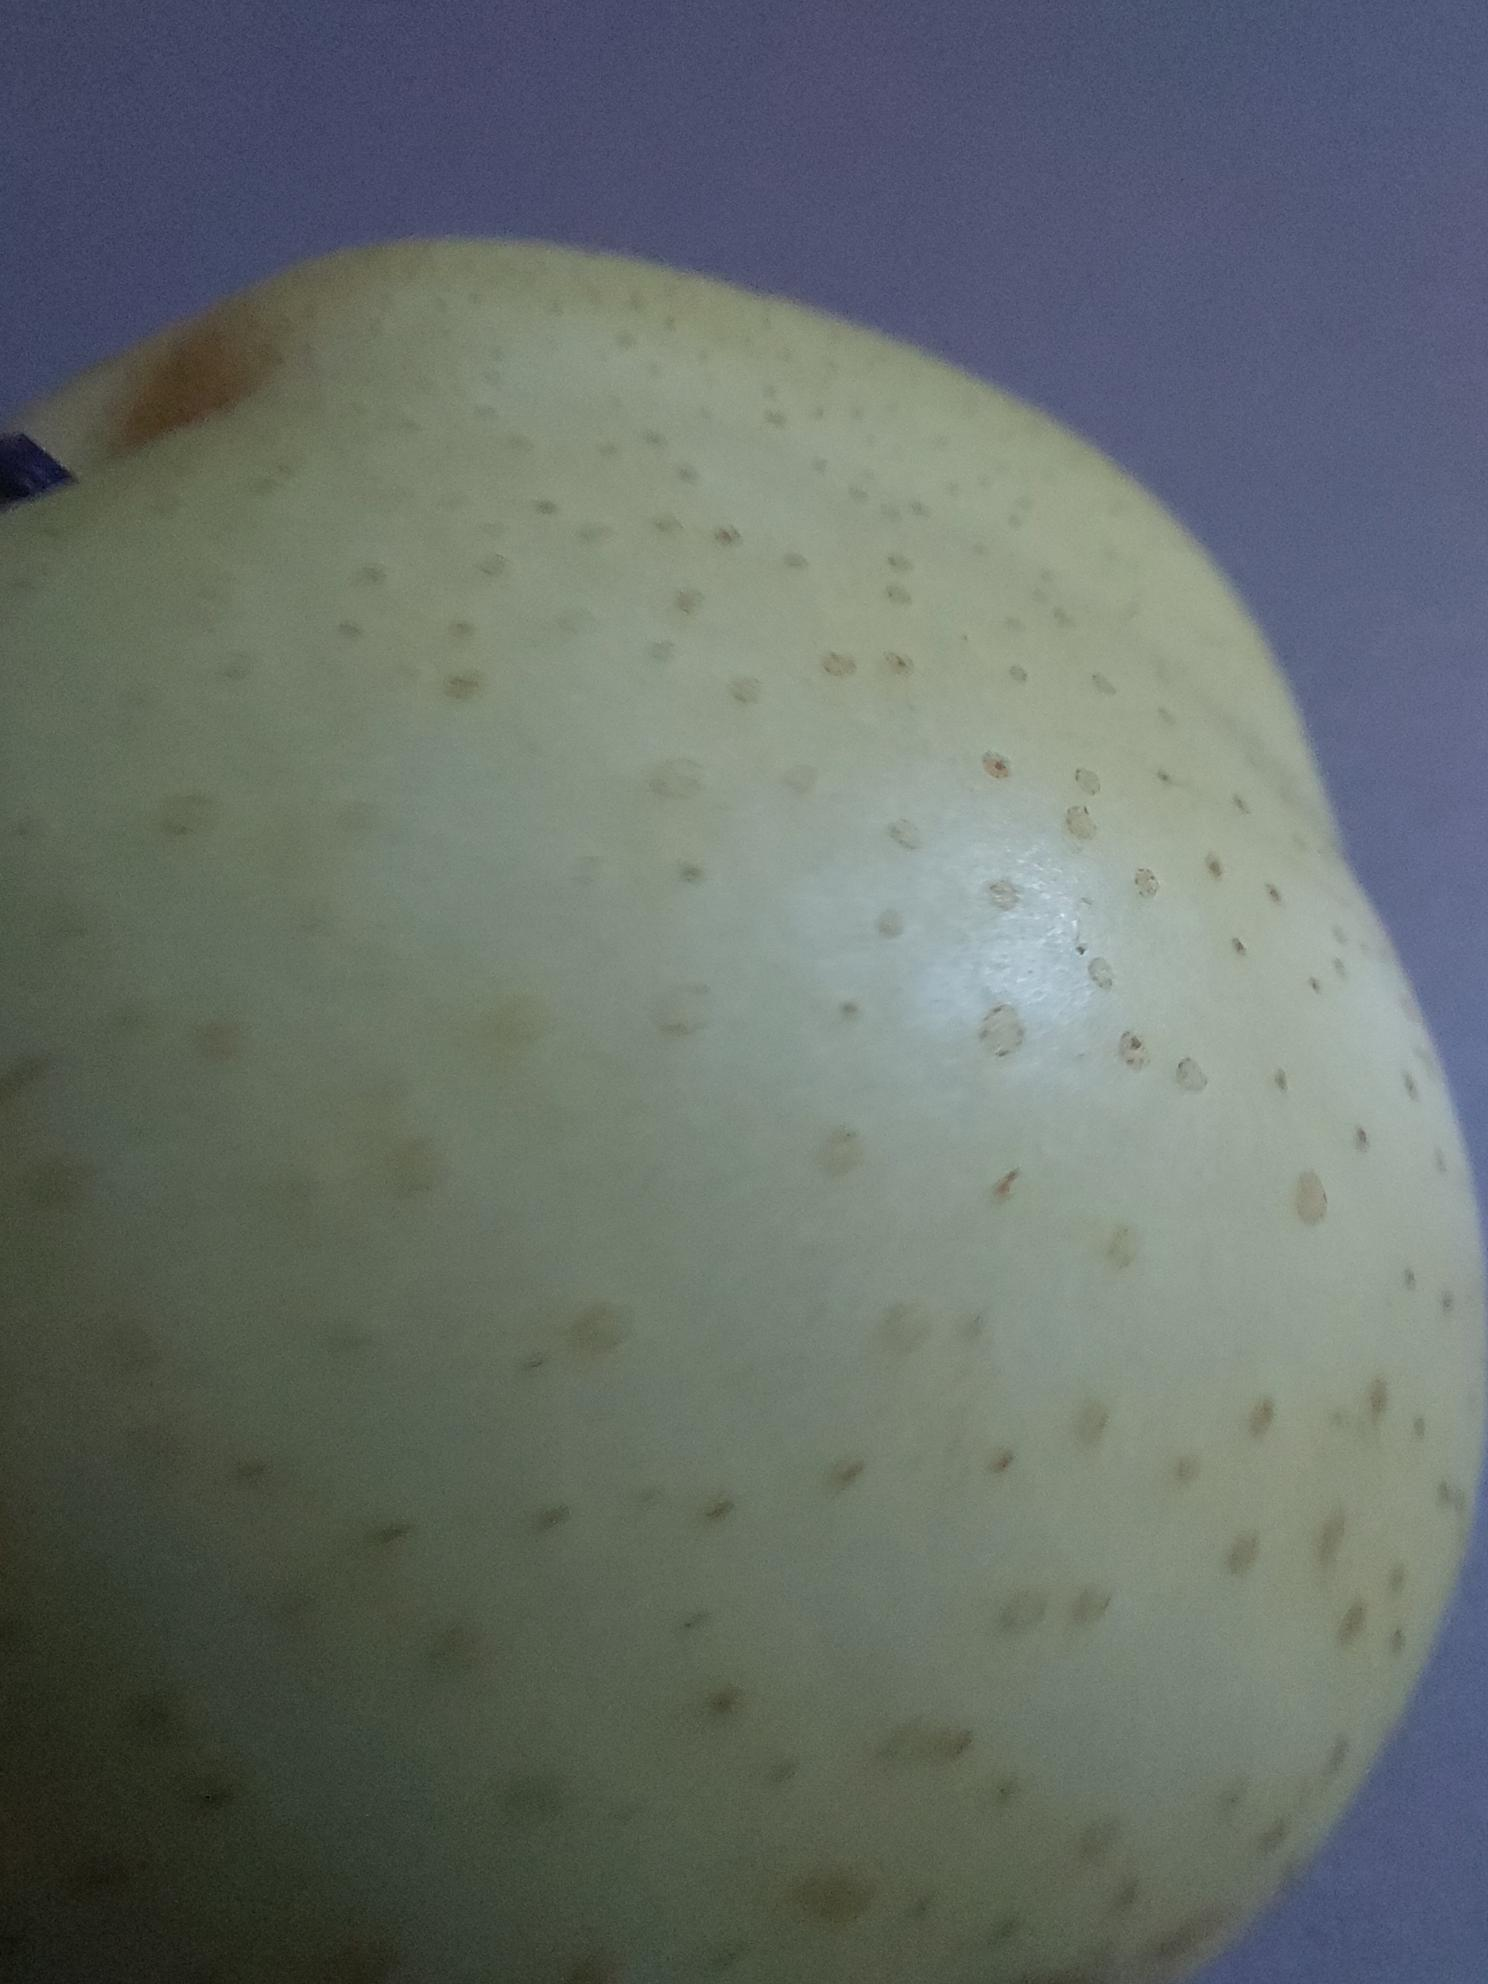Good Pear: (0, 159, 1488, 1984)
